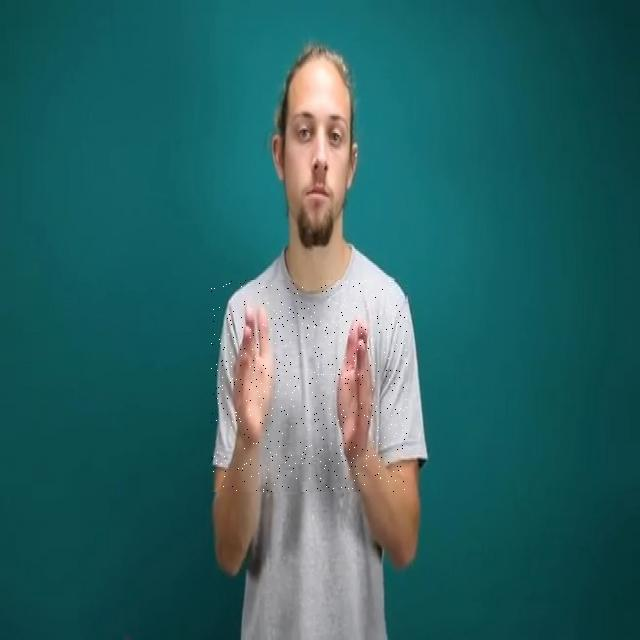small: (212, 280, 408, 492)
